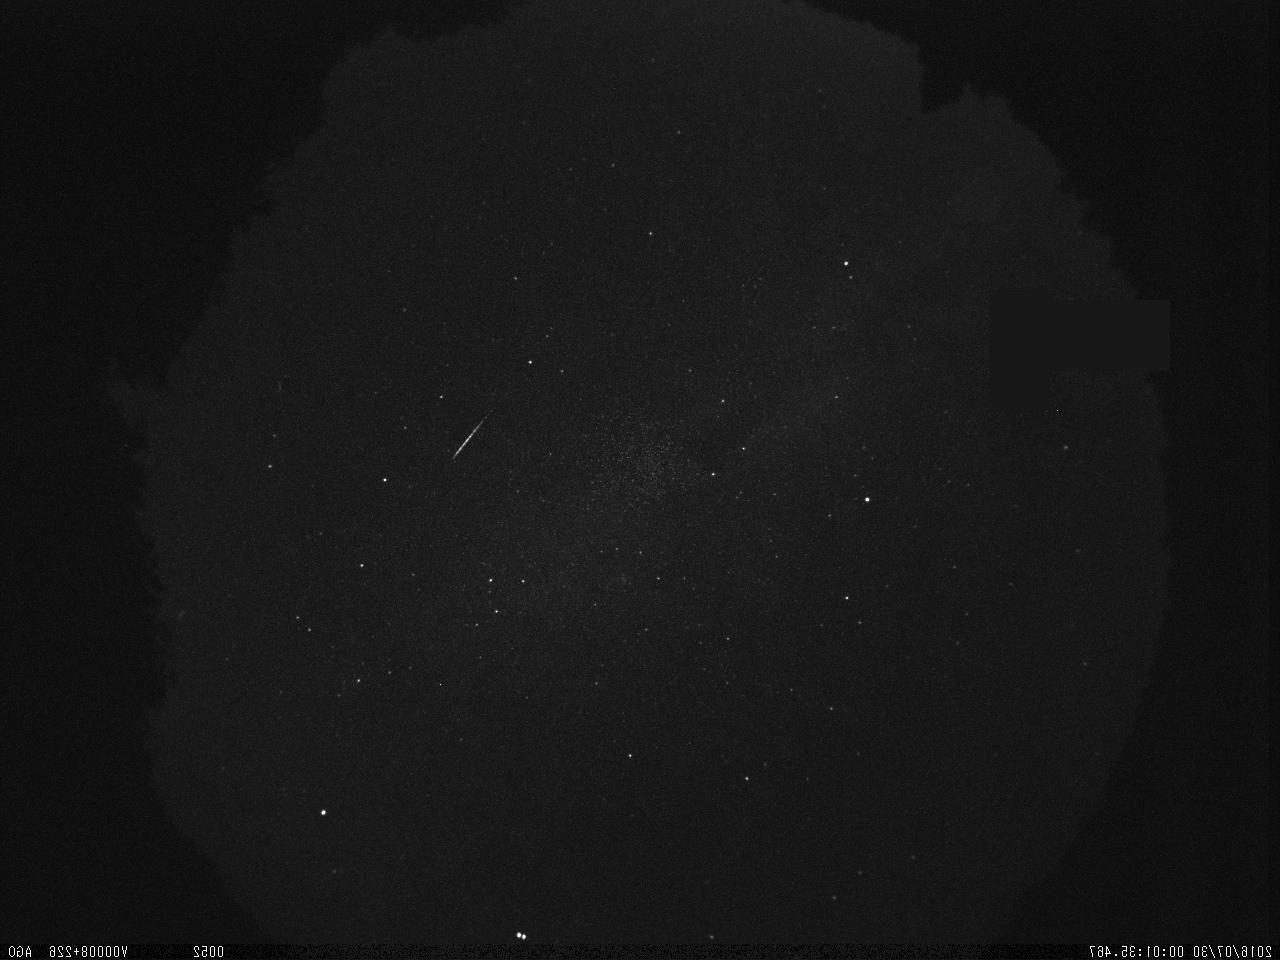meteor: (445, 406, 500, 466)
